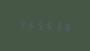eight: (63, 20, 71, 32)
five: (36, 19, 44, 30)
nine: (17, 18, 25, 29)
six: (26, 19, 34, 30), (45, 20, 53, 31)
three: (54, 20, 62, 31)
